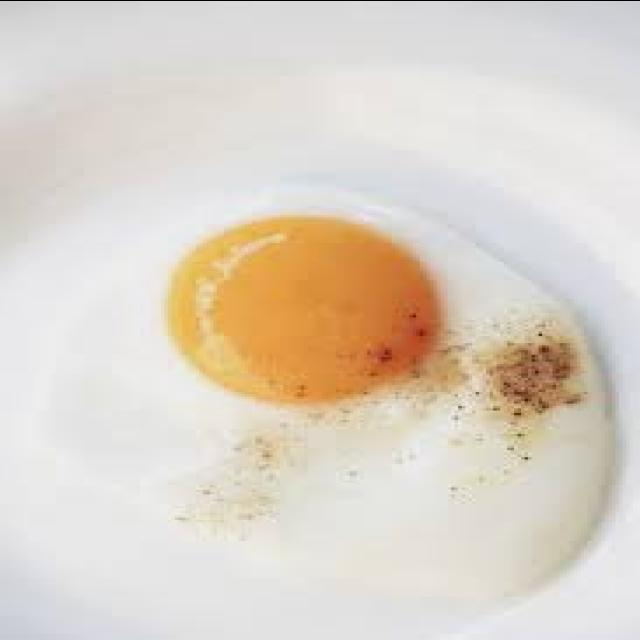telur ceplok: (161, 191, 612, 596)
